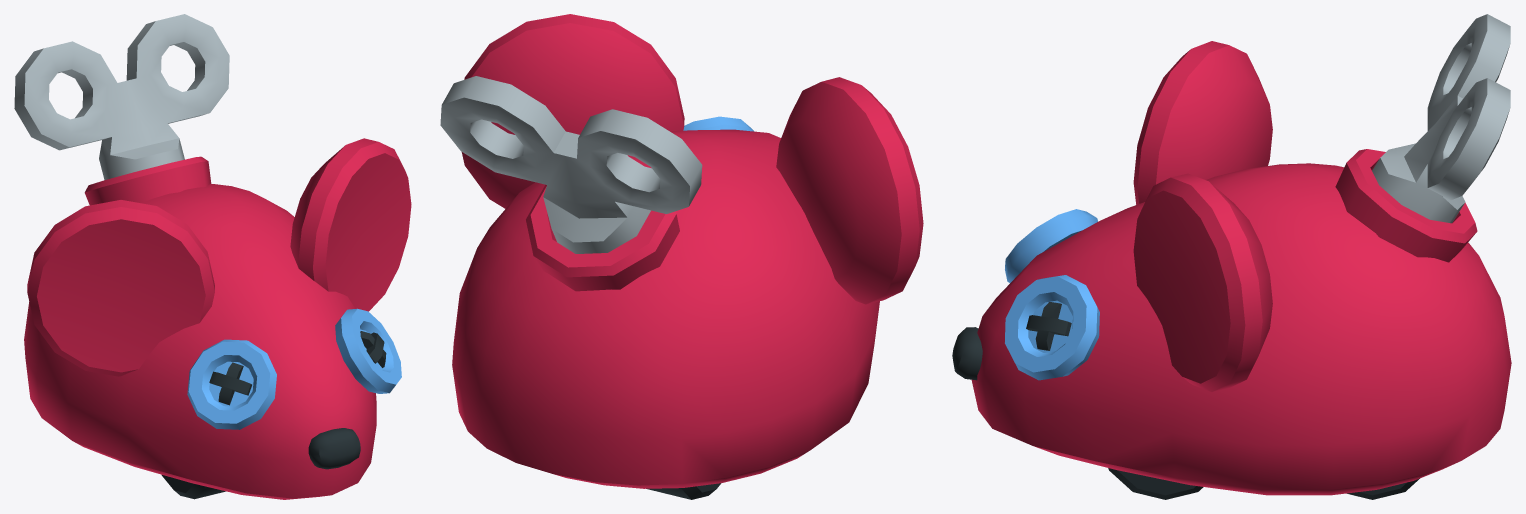
File: toymouse_red.glb
3 renders of one model, left to right at view 1: azimuth 30°, elevation 25°; view 2: azimuth 150°, elevation 25°; view 3: azimuth 270°, elevation 25°, orthographic. The views are drawn at different scales.
Parts seen in each view (by area): view 1: toymouse_red_, toymouse_red_key; view 2: toymouse_red_, toymouse_red_key; view 3: toymouse_red_, toymouse_red_key.
Part boxes in pixels (<box>): toymouse_red_: <box>24,138,411,499</box>; toymouse_red_key: <box>14,14,229,180</box>; toymouse_red_: <box>452,14,923,499</box>; toymouse_red_key: <box>440,76,702,253</box>; toymouse_red_: <box>952,41,1511,499</box>; toymouse_red_key: <box>1372,14,1510,223</box>.
Size of the model in its own units: 0.6993 by 0.6073 by 0.76.
